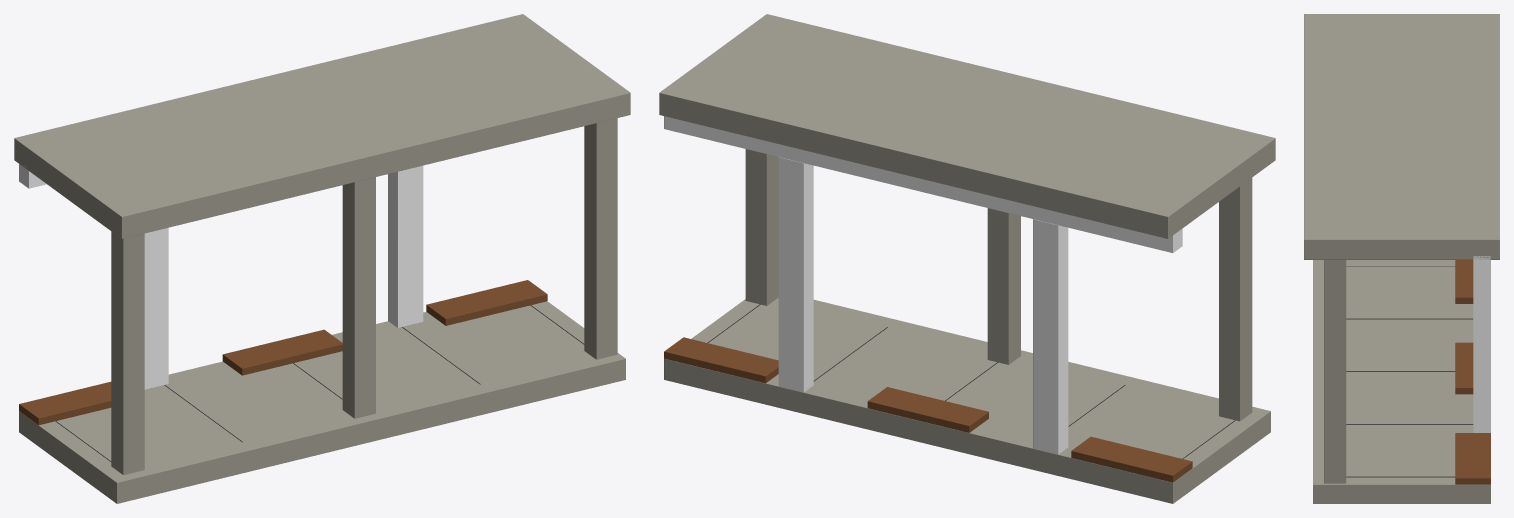
Rendered from source-edit.glb.
3 renders of one model, left to right at view 1: azimuth 30°, elevation 25°; view 2: azimuth 150°, elevation 25°; view 3: azimuth 270°, elevation 25°, orthographic. The views are drawn at different scales.
Parts seen in each view (by area): view 1: Covered_Arcade_Slab, Linked_Arcade_Floor, Arcade_Column.001, Arcade_Column, Arcade_Column.002, Party_Wall_Pier.001, Party_Wall_Pier, Shop_Threshold.002, Shop_Threshold.001, Shop_Threshold; view 2: Covered_Arcade_Slab, Linked_Arcade_Floor, Party_Wall_Pier.001, Party_Wall_Pier, Arcade_Column.001, Rear_Header, Arcade_Column, Arcade_Column.002, Shop_Threshold, Shop_Threshold.001, Shop_Threshold.002; view 3: Covered_Arcade_Slab, Linked_Arcade_Floor, Arcade_Column, Party_Wall_Pier.001, Shop_Threshold.002, Shop_Threshold.001, Shop_Threshold, Rear_Header, Floor_Joint.001.
Part boxes in pixels (x1=…): Covered_Arcade_Slab: x1=14, y1=14, x2=630, y2=238; Linked_Arcade_Floor: x1=19, y1=301, x2=625, y2=503; Arcade_Column.001: x1=111, y1=231, x2=144, y2=474; Arcade_Column: x1=584, y1=118, x2=617, y2=359; Arcade_Column.002: x1=342, y1=177, x2=375, y2=418; Party_Wall_Pier.001: x1=388, y1=165, x2=423, y2=327; Party_Wall_Pier: x1=144, y1=227, x2=168, y2=389; Shop_Threshold.002: x1=426, y1=280, x2=547, y2=325; Shop_Threshold.001: x1=222, y1=329, x2=342, y2=375; Shop_Threshold: x1=19, y1=381, x2=111, y2=425; Covered_Arcade_Slab: x1=659, y1=14, x2=1275, y2=238; Linked_Arcade_Floor: x1=664, y1=298, x2=1270, y2=503; Party_Wall_Pier.001: x1=778, y1=157, x2=813, y2=392; Party_Wall_Pier: x1=1033, y1=219, x2=1068, y2=454; Arcade_Column.001: x1=1219, y1=178, x2=1252, y2=421; Rear_Header: x1=664, y1=116, x2=1182, y2=252; Arcade_Column: x1=745, y1=149, x2=778, y2=305; Arcade_Column.002: x1=987, y1=208, x2=1020, y2=364; Shop_Threshold: x1=1071, y1=436, x2=1192, y2=482; Shop_Threshold.001: x1=867, y1=387, x2=988, y2=432; Shop_Threshold.002: x1=664, y1=337, x2=778, y2=383; Covered_Arcade_Slab: x1=1304, y1=14, x2=1499, y2=259; Linked_Arcade_Floor: x1=1313, y1=260, x2=1490, y2=503; Arcade_Column: x1=1324, y1=260, x2=1346, y2=483; Party_Wall_Pier.001: x1=1473, y1=276, x2=1490, y2=432; Shop_Threshold.002: x1=1455, y1=433, x2=1490, y2=484; Shop_Threshold.001: x1=1455, y1=342, x2=1473, y2=394; Shop_Threshold: x1=1455, y1=260, x2=1473, y2=303; Rear_Header: x1=1473, y1=256, x2=1490, y2=275; Floor_Joint.001: x1=1346, y1=318, x2=1472, y2=319.
Size of the model in its own units: 6 by 3.28 by 2.2.
